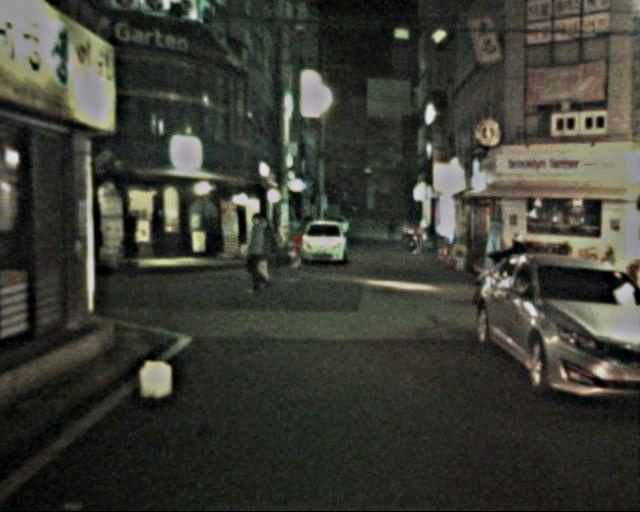person: (242, 213, 275, 295)
